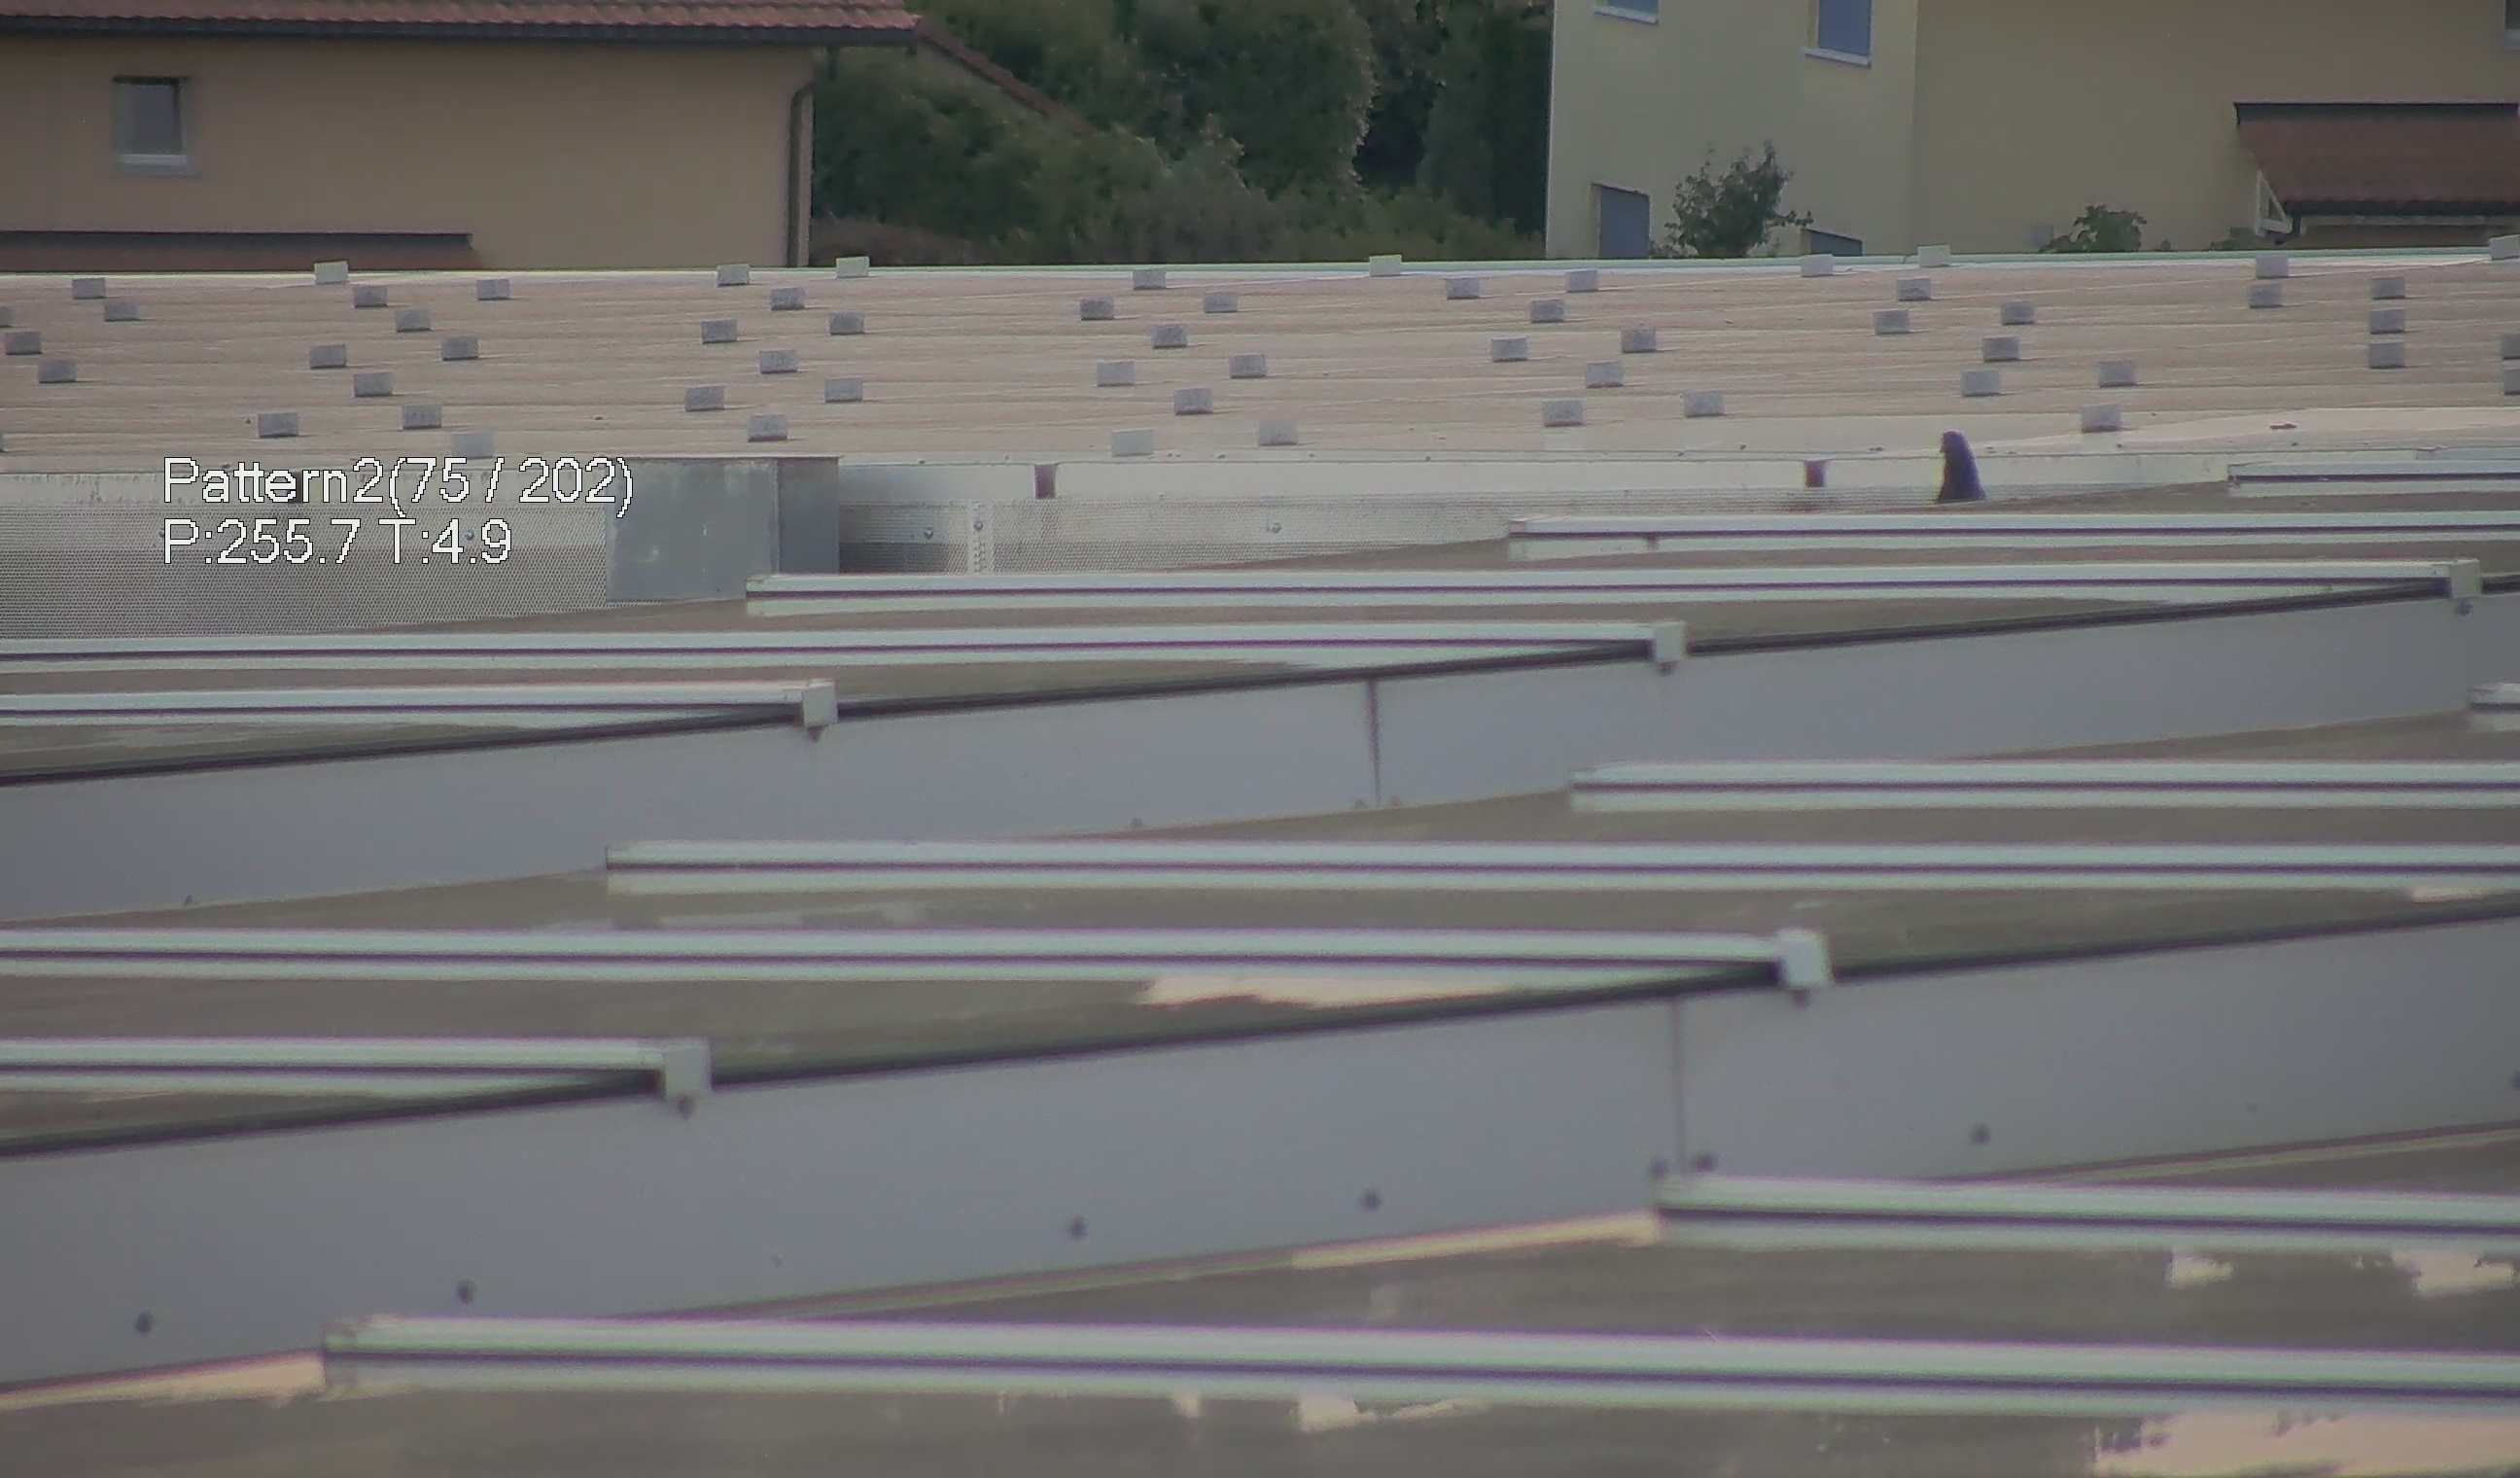Pigeon: (1933, 413, 2007, 503)
